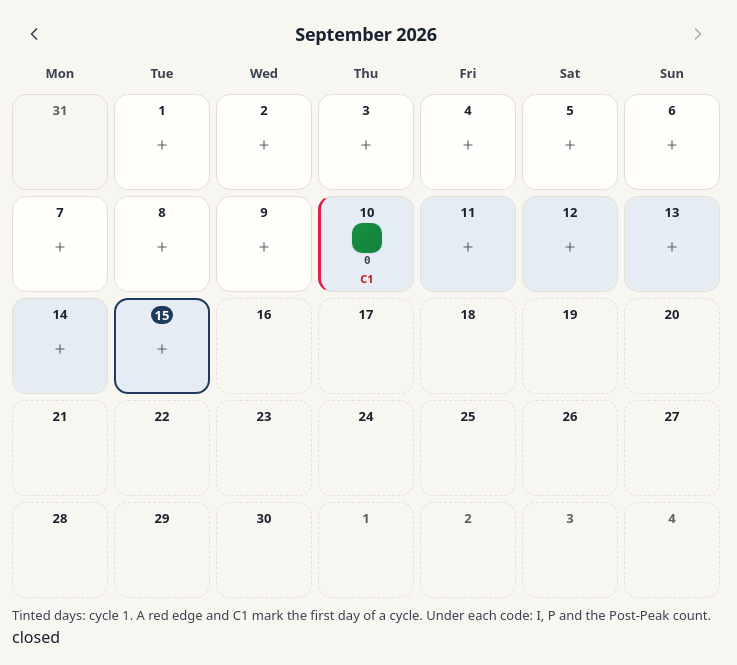
it: CalendarGrid navigation and selection › opens the drawer with a blank observation for an empty day
Click the button named "Date 2026-09-11, No observation": {"x": 468, "y": 244} [420, 196, 516, 292]
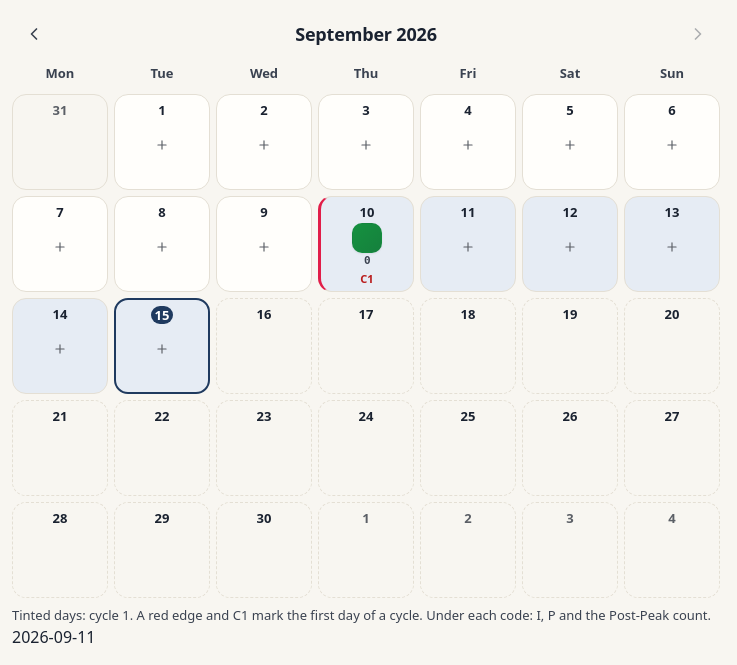
Check: the text with test id "drawer" reads "2026-09-11", box [12, 626, 96, 648]
